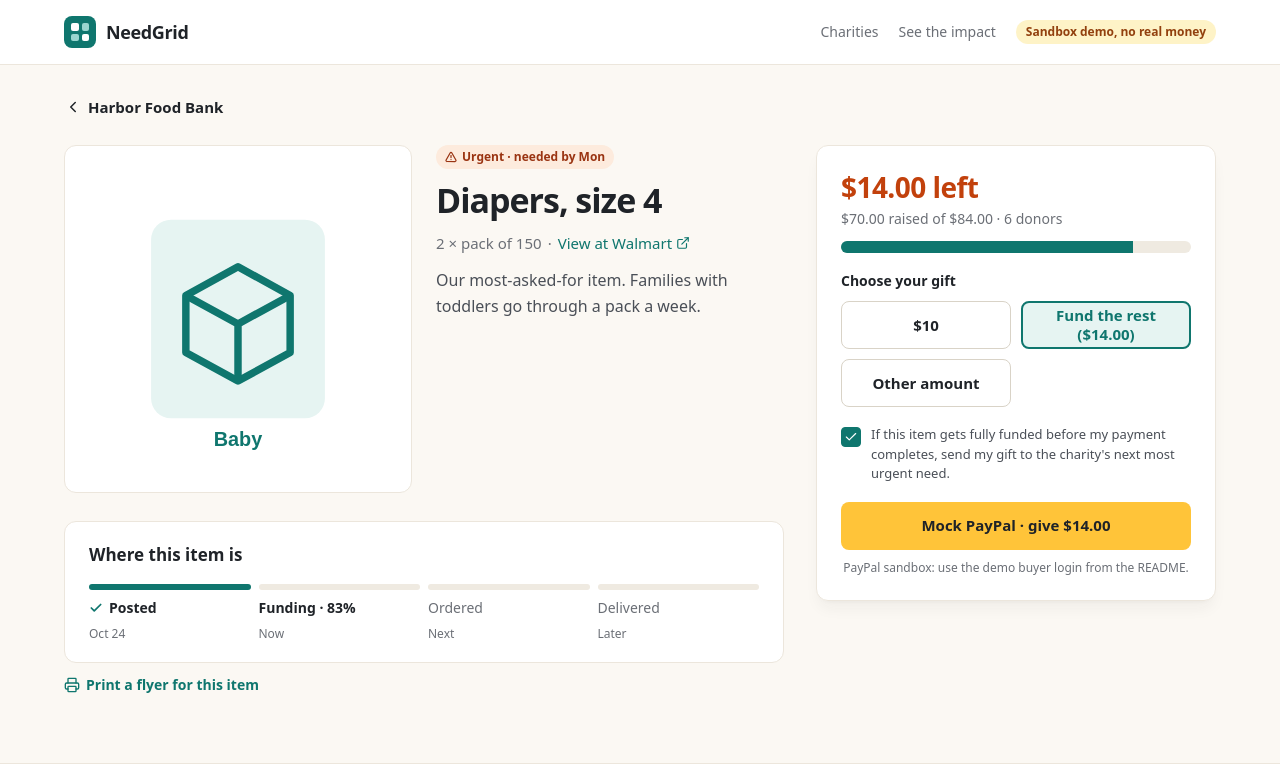
Test case: DonatePanel with the mock PayPal button › shows the server's clamped amount while confirming and again on the thank-you page
Click the button "Mock PayPal · give $14.00" at {"x": 1016, "y": 526}, box [841,502,1191,550]
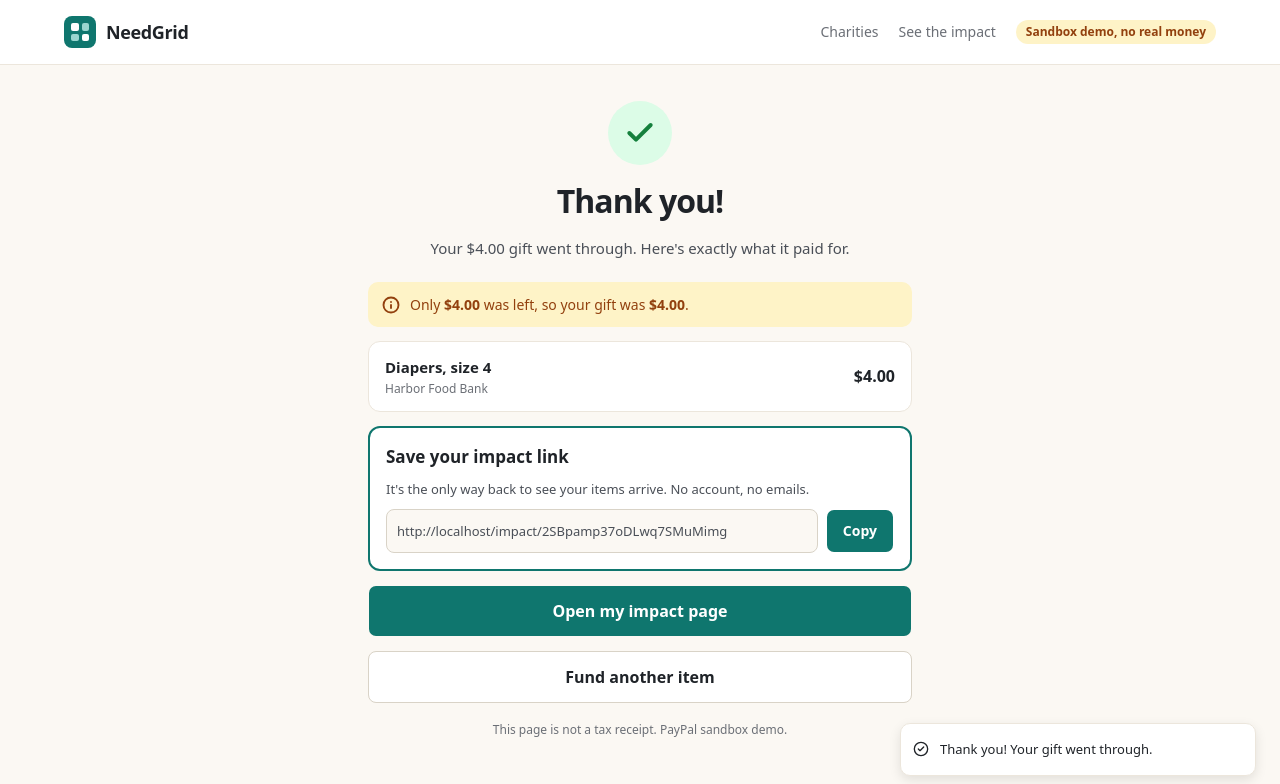
Now the text "Your $4.00 gift went through. Here's exactly what it paid for." is shown, box [430,237,850,260]
